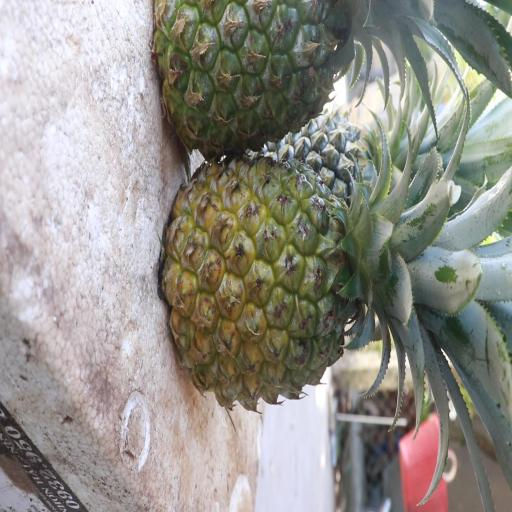------------------------------: (154, 0, 391, 155)
Pineapple - v8 v1: (166, 157, 419, 408)
